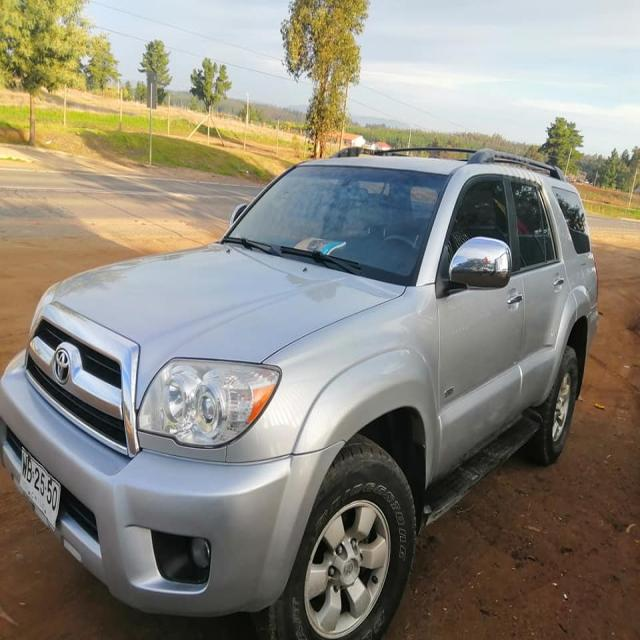patente: (18, 445, 61, 530)
